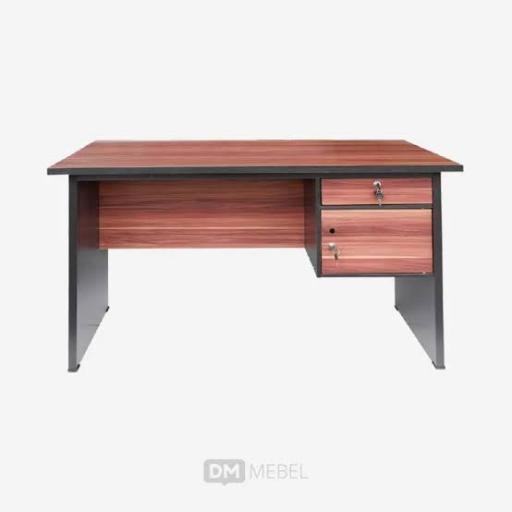meja: (44, 137, 466, 378)
